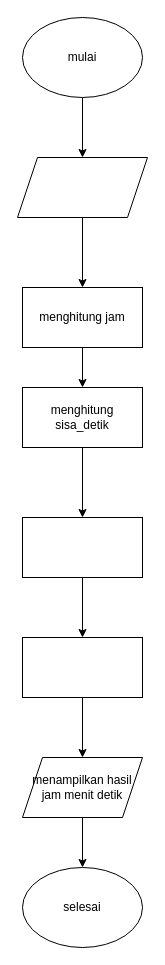
Some shapes in this 165 by 965 pixel diagram are drawn without their labels. The shapes that lost their labels are listed below. From the top down, each one's centre as x and y in pixels, then its label:
At point (82, 187): "Total_detik".
At point (82, 547): "menghitung_menit".
At point (82, 667): "menghitung_detik".
